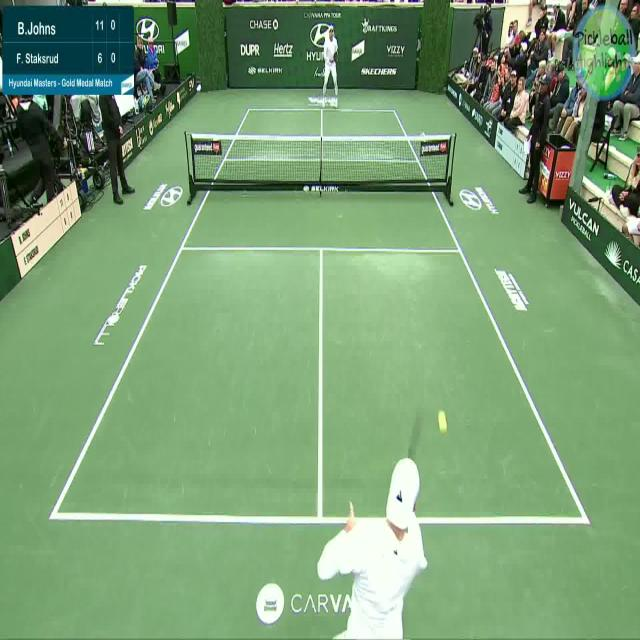ball: (434, 401, 453, 444)
